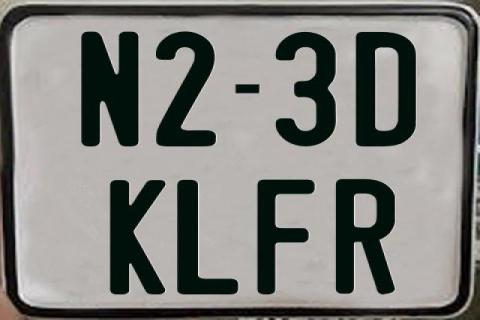0: (275, 30, 342, 148), (154, 29, 218, 144)
D: (356, 30, 416, 146)
F: (255, 180, 314, 296)
K: (107, 178, 169, 294)
L: (177, 178, 240, 294)
N: (80, 29, 144, 145)
R: (335, 177, 397, 295)
